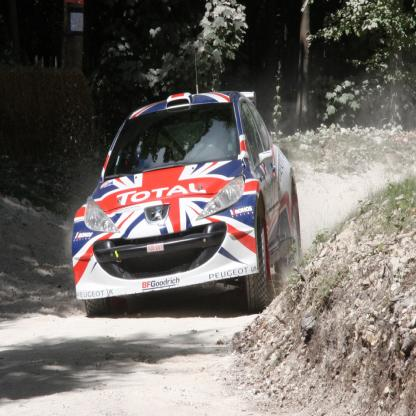Car: (74, 49, 298, 315)
